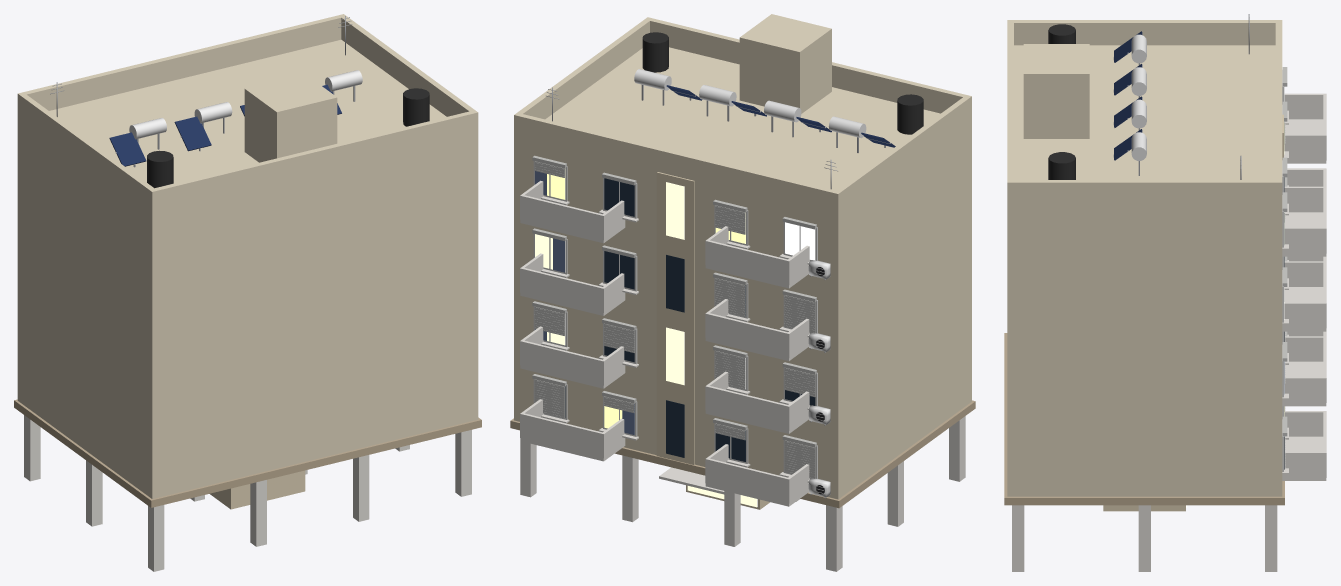
File: block.glb
The picture shows the model from 3 angles, left to right: view 1: azimuth 30°, elevation 25°; view 2: azimuth 150°, elevation 25°; view 3: azimuth 270°, elevation 25°; orthographic projection. The views are drawn at different scales.
Parts seen in each view (by area): view 1: blockmesh; view 2: blockmesh; view 3: blockmesh.
Boxes of the visible parts, x1=… form: blockmesh: x1=14, y1=14, x2=481, y2=571; blockmesh: x1=510, y1=14, x2=975, y2=571; blockmesh: x1=1004, y1=14, x2=1326, y2=571.
Size of the model in its own units: 14.2 by 17.4 by 11.71.
